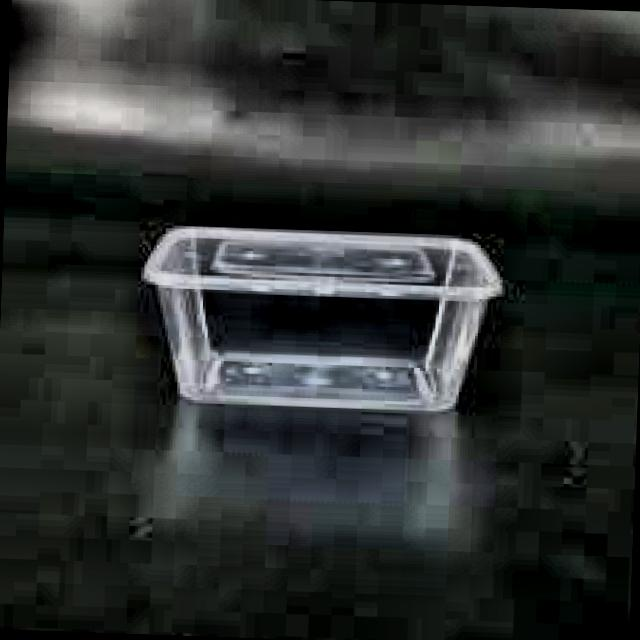plastic container: (141, 225, 502, 411)
